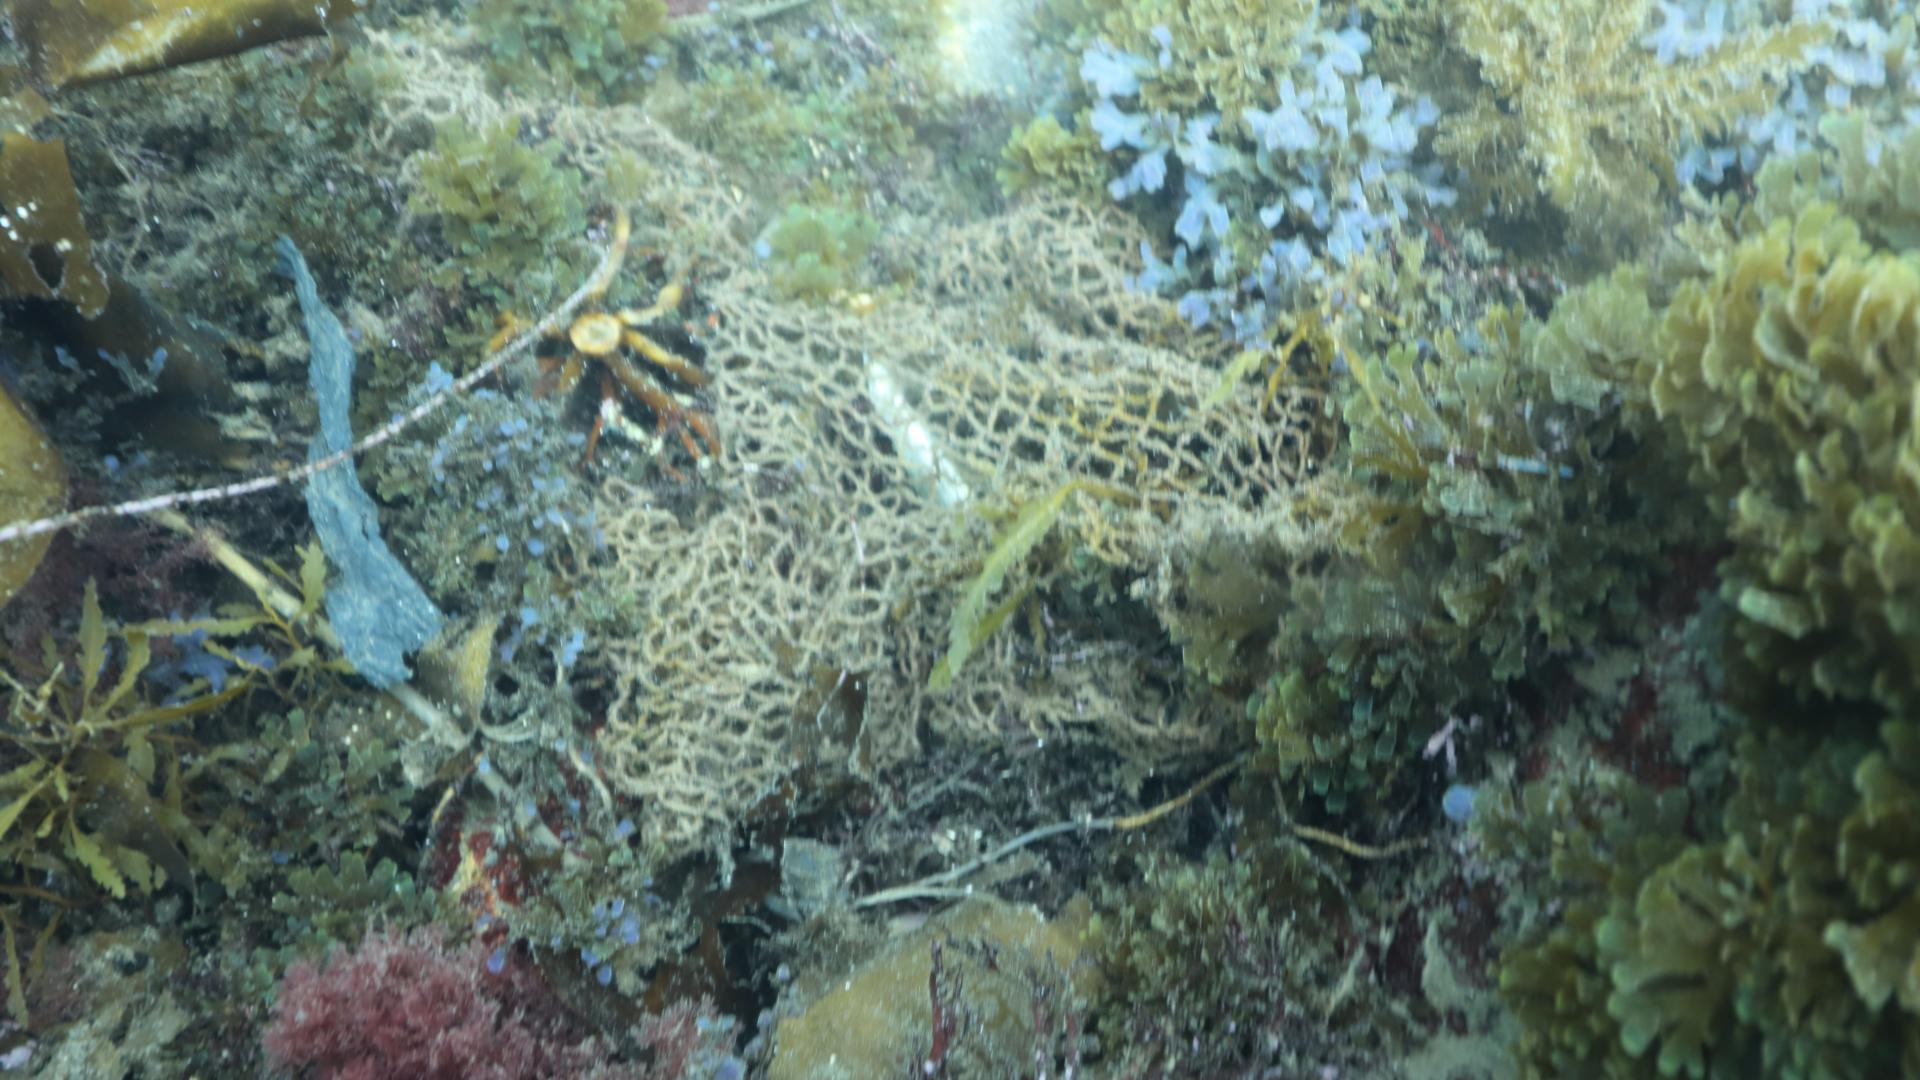fish net: (359, 25, 1358, 840)
